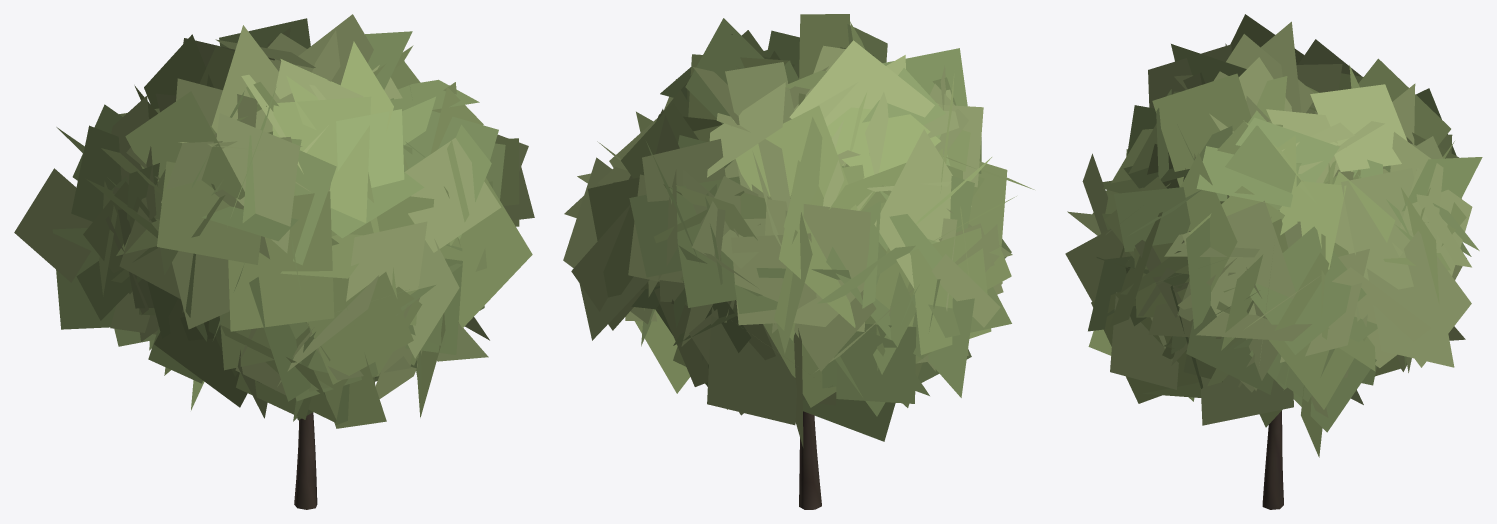
The model's file is robinia_0.glb.
3 renders of one model, left to right at view 1: azimuth 30°, elevation 25°; view 2: azimuth 150°, elevation 25°; view 3: azimuth 270°, elevation 25°, orthographic. The views are drawn at different scales.
Parts seen in each view (by area): view 1: robinia_0; view 2: robinia_0; view 3: robinia_0.
Part boxes in pixels (left/top/right/bottom): robinia_0: left=14, top=14, right=534, bottom=509; robinia_0: left=563, top=14, right=1034, bottom=509; robinia_0: left=1065, top=14, right=1482, bottom=509.
Size of the model in its own units: 1 by 1 by 0.8232.
